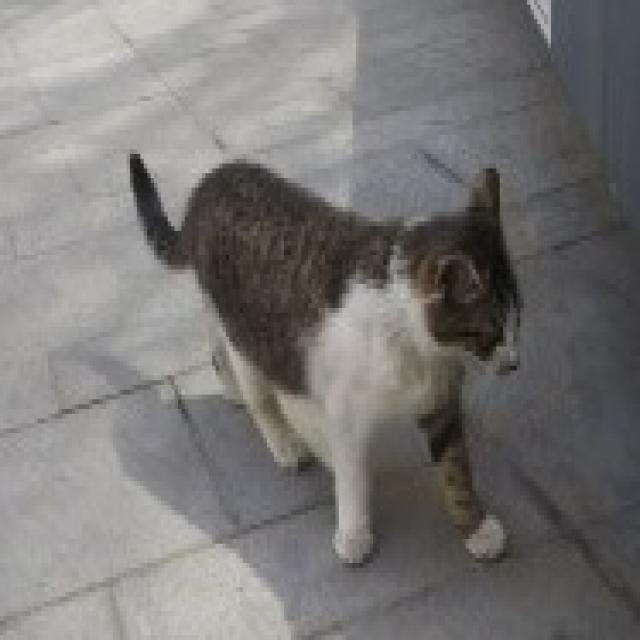cat: (99, 117, 547, 592)
